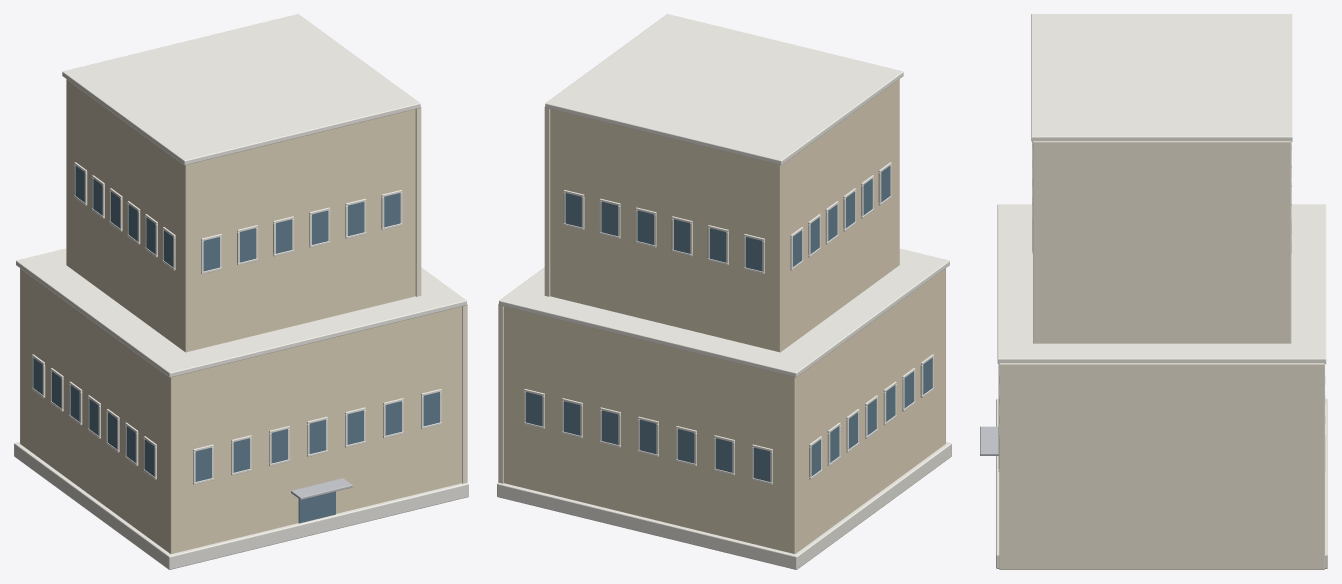
File: bldg_sand_midrise.glb
3 views of the same model, side by side, from view 1: azimuth 30°, elevation 25°; view 2: azimuth 150°, elevation 25°; view 3: azimuth 270°, elevation 25° (orthographic). The views are drawn at different scales.
Parts seen in each view (by area): view 1: bldg_sand_midrise_band_0_wall, bldg_sand_midrise_band_1_wall, bldg_sand_midrise_band_1_cornice, bldg_sand_midrise_band_0_cornice, bldg_sand_midrise_plinth, bldg_sand_midrise_band_1_pilaster, bldg_sand_midrise_band_0_pilaster, bldg_sand_midrise_entrance, bldg_sand_midrise_canopy; view 2: bldg_sand_midrise_band_0_wall, bldg_sand_midrise_band_1_wall, bldg_sand_midrise_band_1_cornice, bldg_sand_midrise_band_0_cornice, bldg_sand_midrise_plinth, bldg_sand_midrise_band_1_pilaster, bldg_sand_midrise_band_0_pilaster; view 3: bldg_sand_midrise_band_0_pilaster, bldg_sand_midrise_band_1_pilaster, bldg_sand_midrise_band_1_cornice, bldg_sand_midrise_band_0_cornice, bldg_sand_midrise_plinth, bldg_sand_midrise_canopy.
Part boxes in pixels (left/top/right/bottom): bldg_sand_midrise_band_0_wall: left=20, top=268, right=461, bottom=553; bldg_sand_midrise_band_1_wall: left=66, top=79, right=415, bottom=352; bldg_sand_midrise_band_1_cornice: left=62, top=14, right=420, bottom=165; bldg_sand_midrise_band_0_cornice: left=16, top=248, right=466, bottom=377; bldg_sand_midrise_plinth: left=14, top=442, right=468, bottom=569; bldg_sand_midrise_band_1_pilaster: left=415, top=106, right=421, bottom=296; bldg_sand_midrise_band_0_pilaster: left=462, top=303, right=467, bottom=483; bldg_sand_midrise_entrance: left=298, top=491, right=335, bottom=523; bldg_sand_midrise_canopy: left=291, top=478, right=352, bottom=499; bldg_sand_midrise_band_0_wall: left=504, top=268, right=945, bottom=553; bldg_sand_midrise_band_1_wall: left=550, top=79, right=899, bottom=352; bldg_sand_midrise_band_1_cornice: left=545, top=14, right=903, bottom=165; bldg_sand_midrise_band_0_cornice: left=499, top=248, right=949, bottom=377; bldg_sand_midrise_plinth: left=497, top=442, right=951, bottom=569; bldg_sand_midrise_band_1_pilaster: left=544, top=106, right=550, bottom=296; bldg_sand_midrise_band_0_pilaster: left=498, top=303, right=503, bottom=483; bldg_sand_midrise_band_0_pilaster: left=999, top=363, right=1324, bottom=569; bldg_sand_midrise_band_1_pilaster: left=1033, top=141, right=1291, bottom=343; bldg_sand_midrise_band_1_cornice: left=1031, top=14, right=1292, bottom=141; bldg_sand_midrise_band_0_cornice: left=997, top=204, right=1326, bottom=363; bldg_sand_midrise_plinth: left=996, top=398, right=1327, bottom=568; bldg_sand_midrise_canopy: left=980, top=426, right=998, bottom=455.
Bounding box in the file's own units: 19.51 × 24.25 × 18.35.
